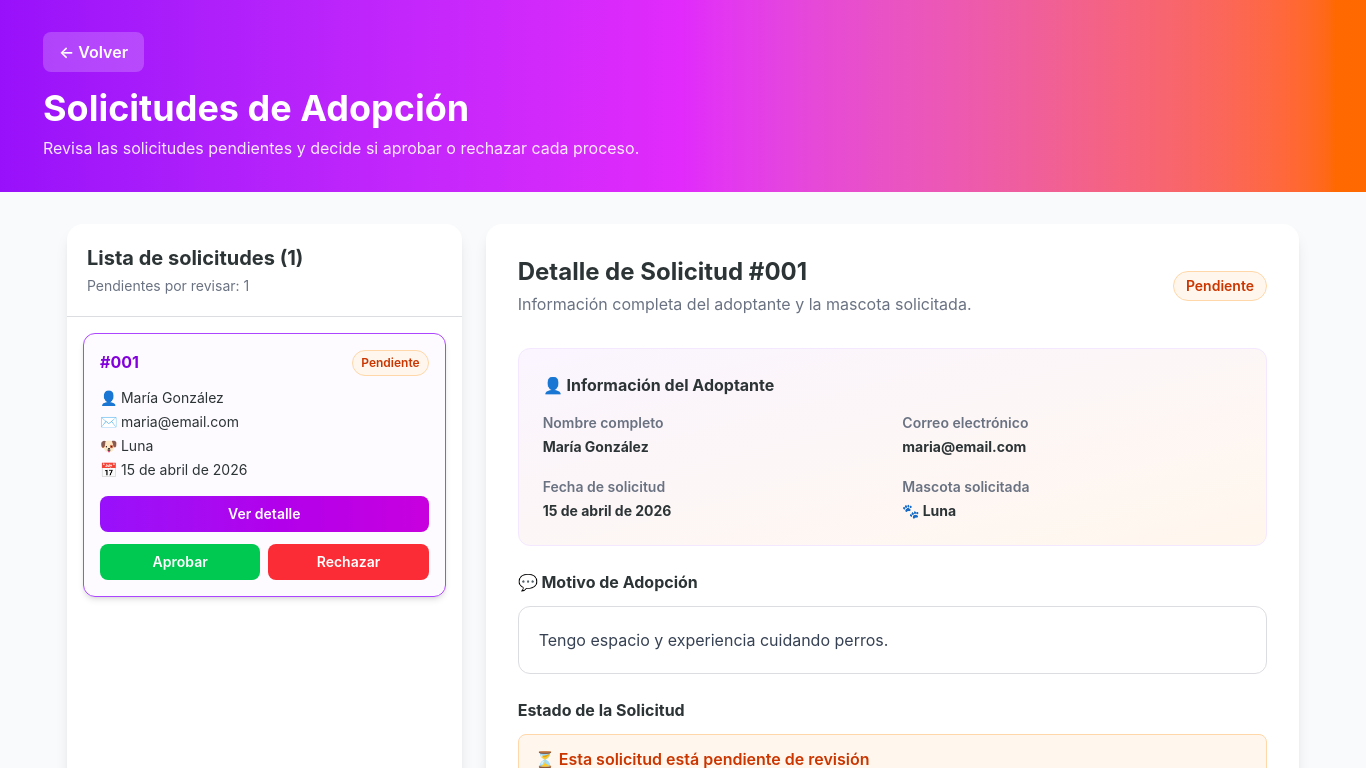
it: ManageAdoptionRequestsScreen › approves a request from the sidebar button
The image size is (1366, 768).
Expected: the heading "Detalle de Solicitud #001" is shown, 518,257 -> 807,286
// The sidebar approve button
Step 1. Click the button "Aprobar" → (180, 562), box 100,544 -> 260,580
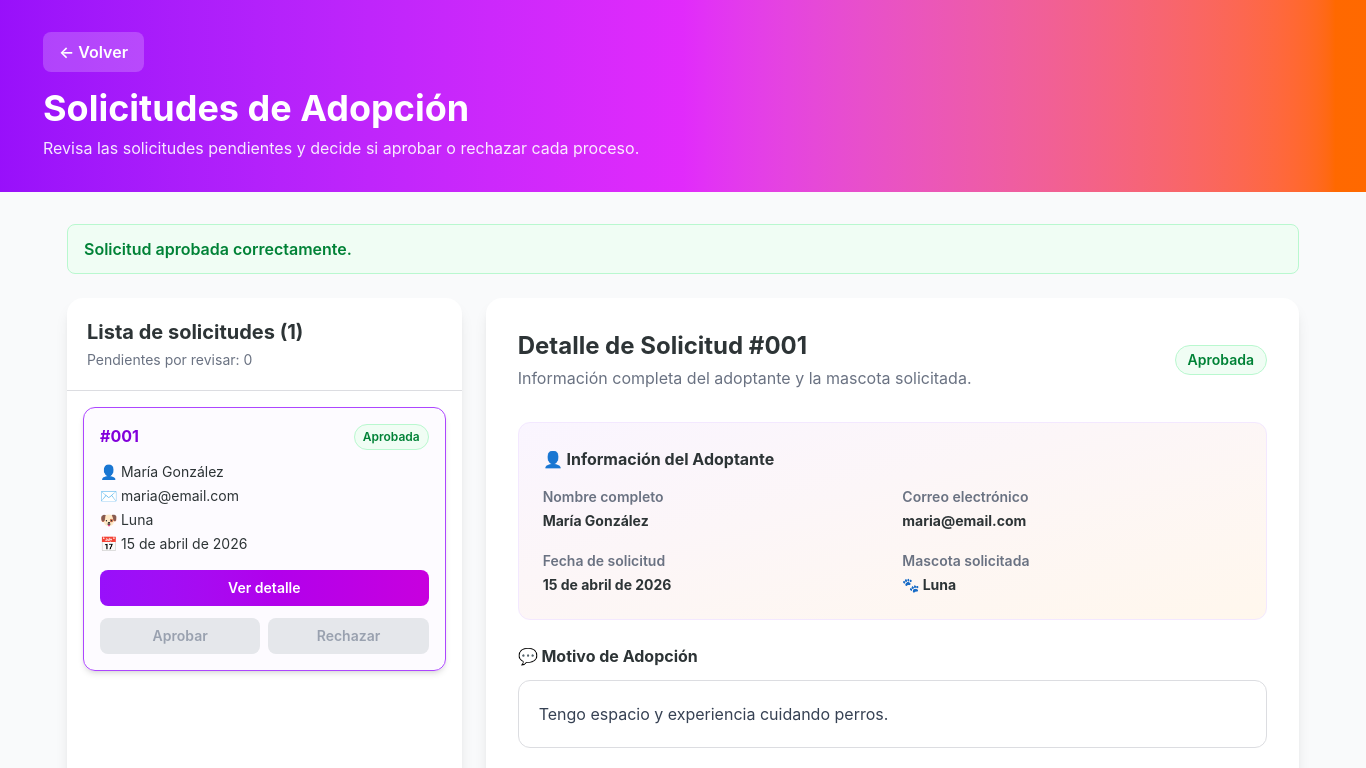
Expected: the text "Solicitud aprobada correctamente." is shown, 67,224 -> 1299,274
